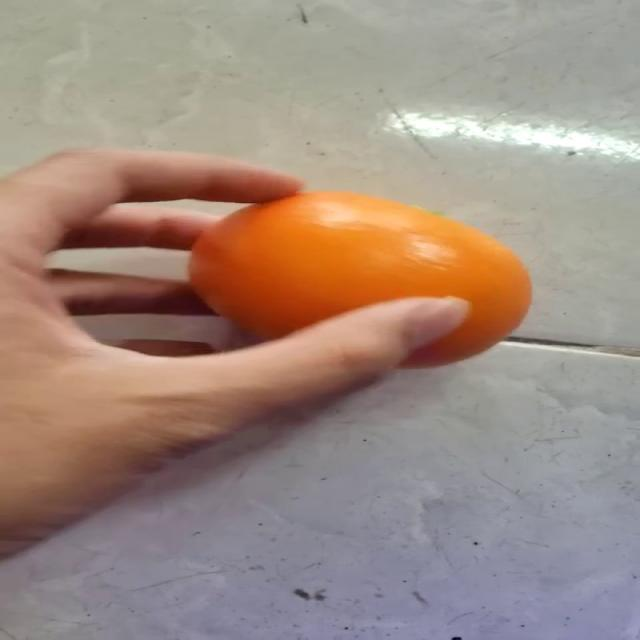Orange: (186, 188, 533, 368)
